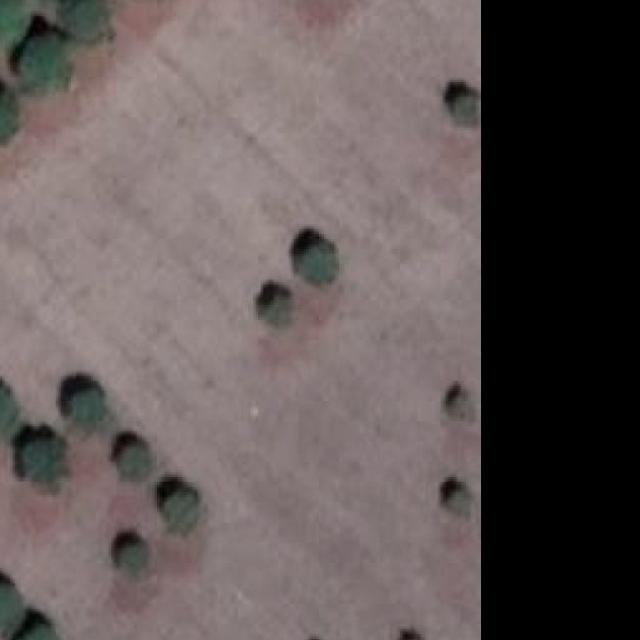Tree: (25, 39, 69, 87), (23, 436, 64, 482), (69, 389, 109, 429), (60, 0, 104, 34), (296, 244, 334, 283), (444, 388, 477, 426), (0, 0, 27, 43), (167, 492, 196, 531), (119, 447, 153, 480), (121, 546, 150, 576), (0, 586, 20, 629), (454, 95, 479, 126), (15, 626, 64, 640), (0, 95, 15, 139), (268, 298, 292, 323), (0, 391, 15, 431), (449, 490, 472, 514)
